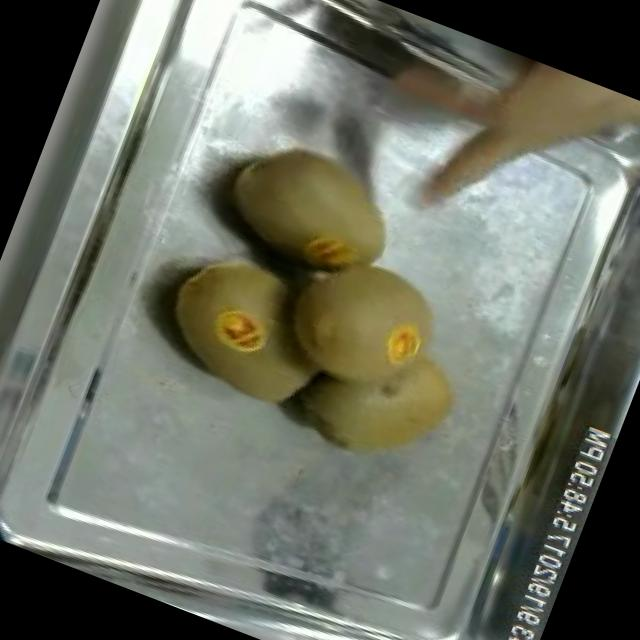Fruit: (240, 224, 500, 489), (415, 30, 640, 228), (200, 111, 422, 306), (141, 225, 324, 412)
